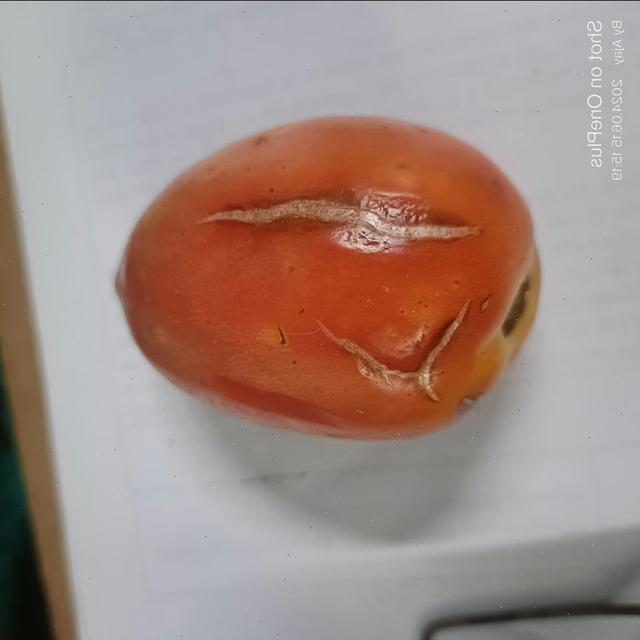Cracking Fruit: (209, 155, 324, 218)
